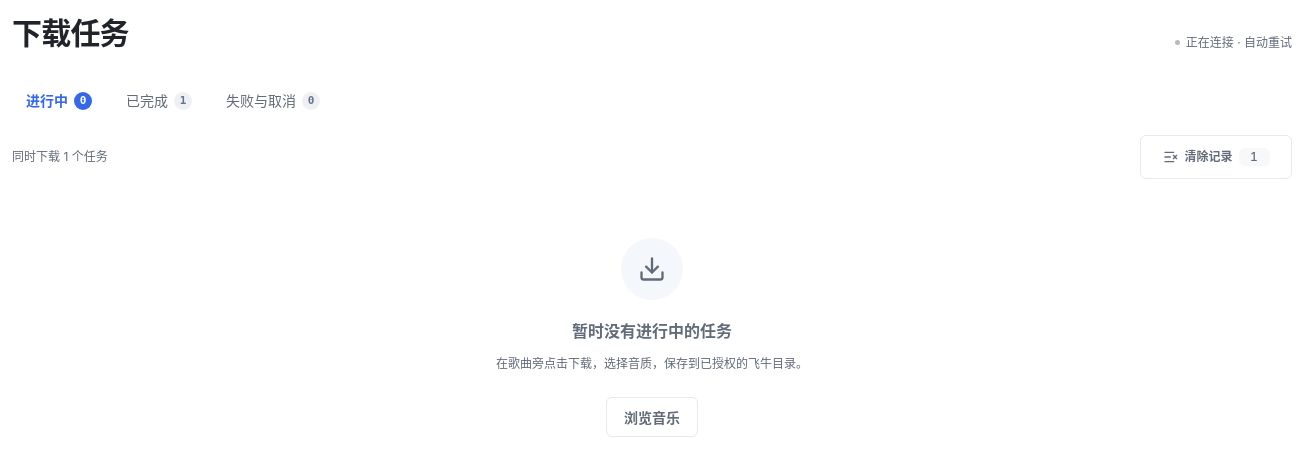
Test case: v18 下载完成信息收敛 › 素材不完整不伪造标签成功；无需详情的正常完成任务不增加空入口
Click the tab "已完成 1".
click(159, 100)  # box 112,82 -> 206,118
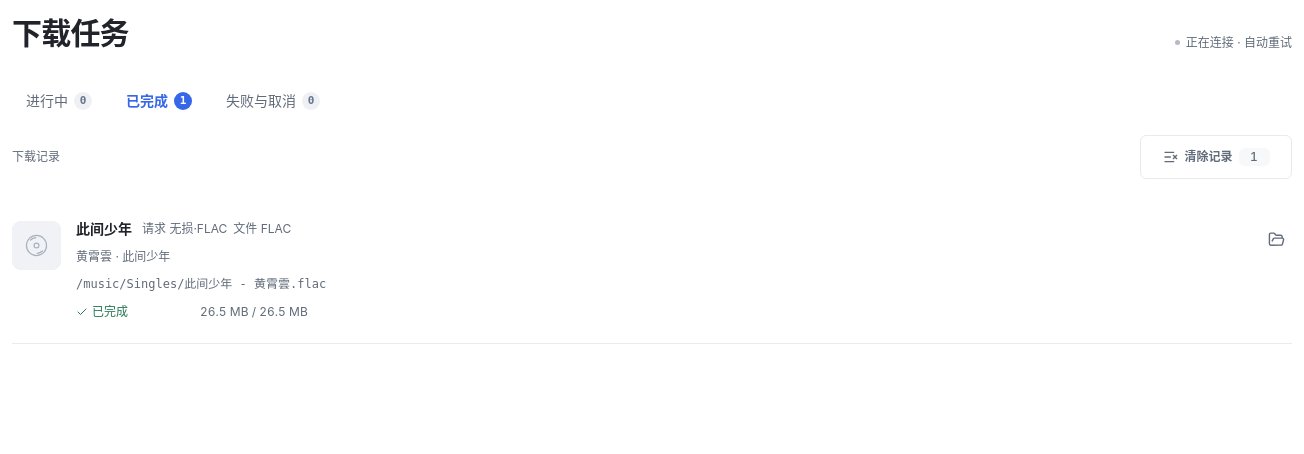
Expected: the text "已完成" is shown, 76,303 -> 128,318
